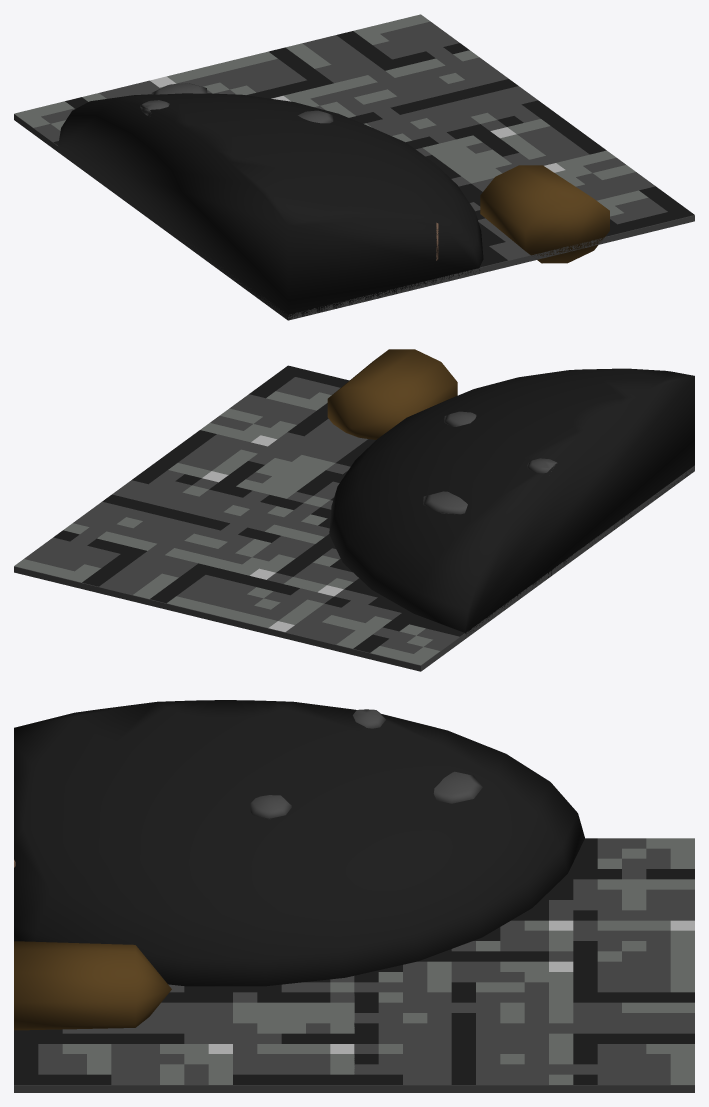
File: newshs-41.glb
3 renders of one model, top to bottom at view 1: azimuth 30°, elevation 25°; view 2: azimuth 150°, elevation 25°; view 3: azimuth 270°, elevation 25°, orthographic. The views are drawn at different scales.
Visible parts, largest first — view 1: newshs-41; view 2: newshs-41; view 3: newshs-41.
Boxes of the visible parts, box(x1,y1,x2,y2) form: newshs-41: box(14, 14, 694, 320); newshs-41: box(14, 349, 694, 671); newshs-41: box(14, 700, 694, 1092).
Size of the model in its own units: 2 by 0.6035 by 2.33.
